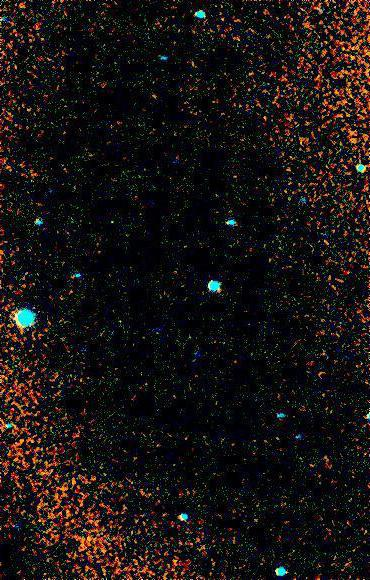star: (337, 124, 367, 154)
